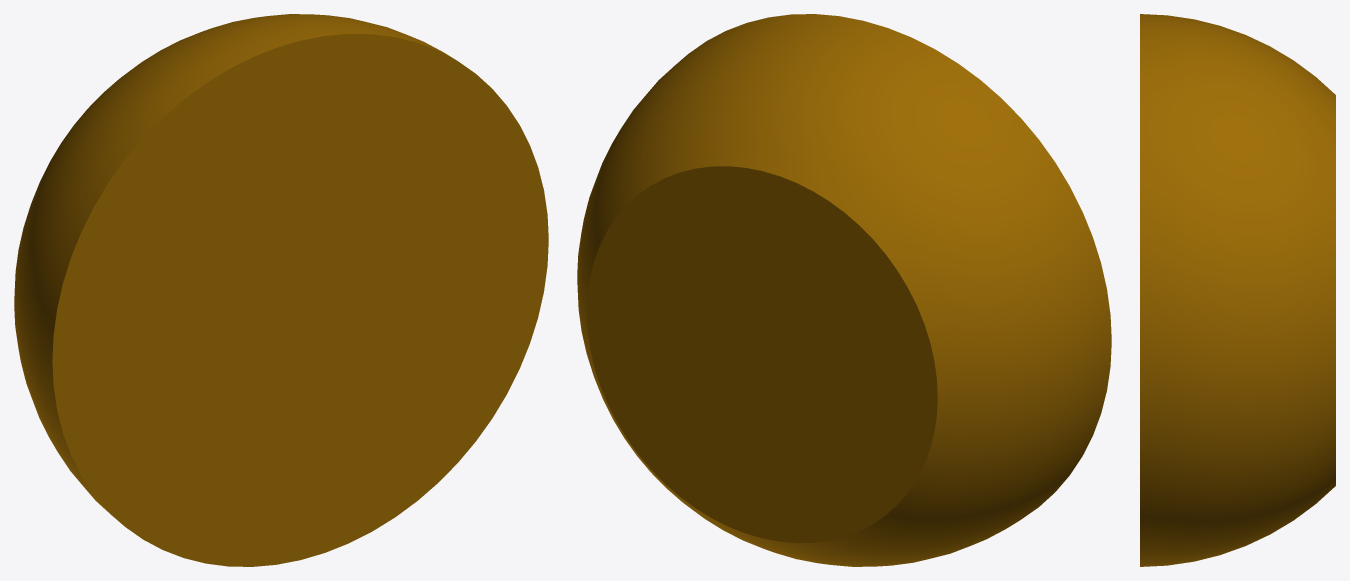
The picture shows the model from 3 angles, left to right: view 1: azimuth 30°, elevation 25°; view 2: azimuth 150°, elevation 25°; view 3: azimuth 270°, elevation 25°; orthographic projection. The views are drawn at different scales.
Parts seen in each view (by area): view 1: puck; view 2: puck; view 3: puck.
Part boxes in pixels (x1,y1,x2,y2): puck: [14, 14, 548, 566]; puck: [577, 14, 1111, 566]; puck: [1140, 14, 1335, 566].
Size of the model in its own units: 0.3 by 0.3 by 0.1061.
